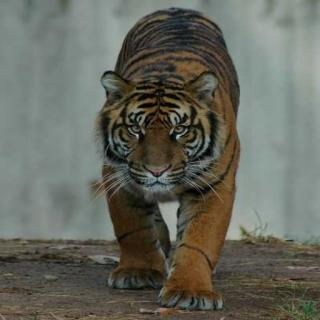Tiger: (85, 0, 256, 306)
